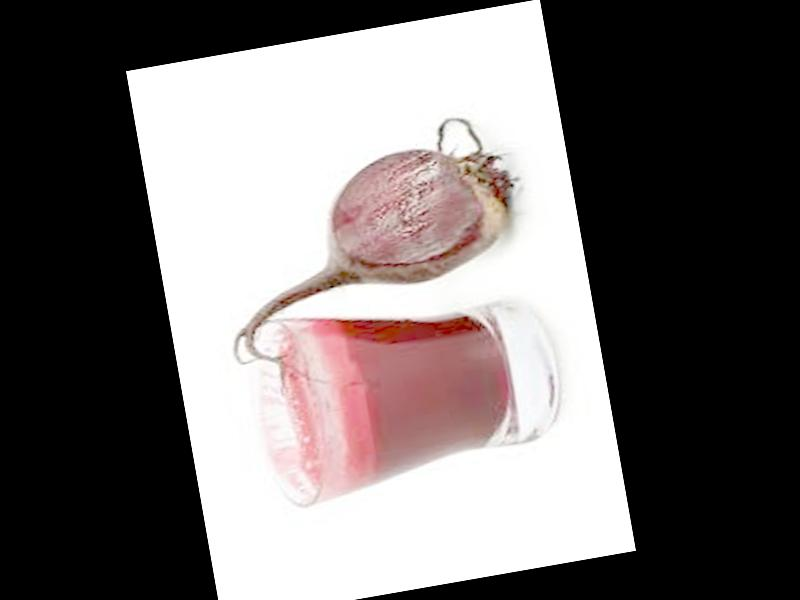Beet: (200, 110, 543, 393)
